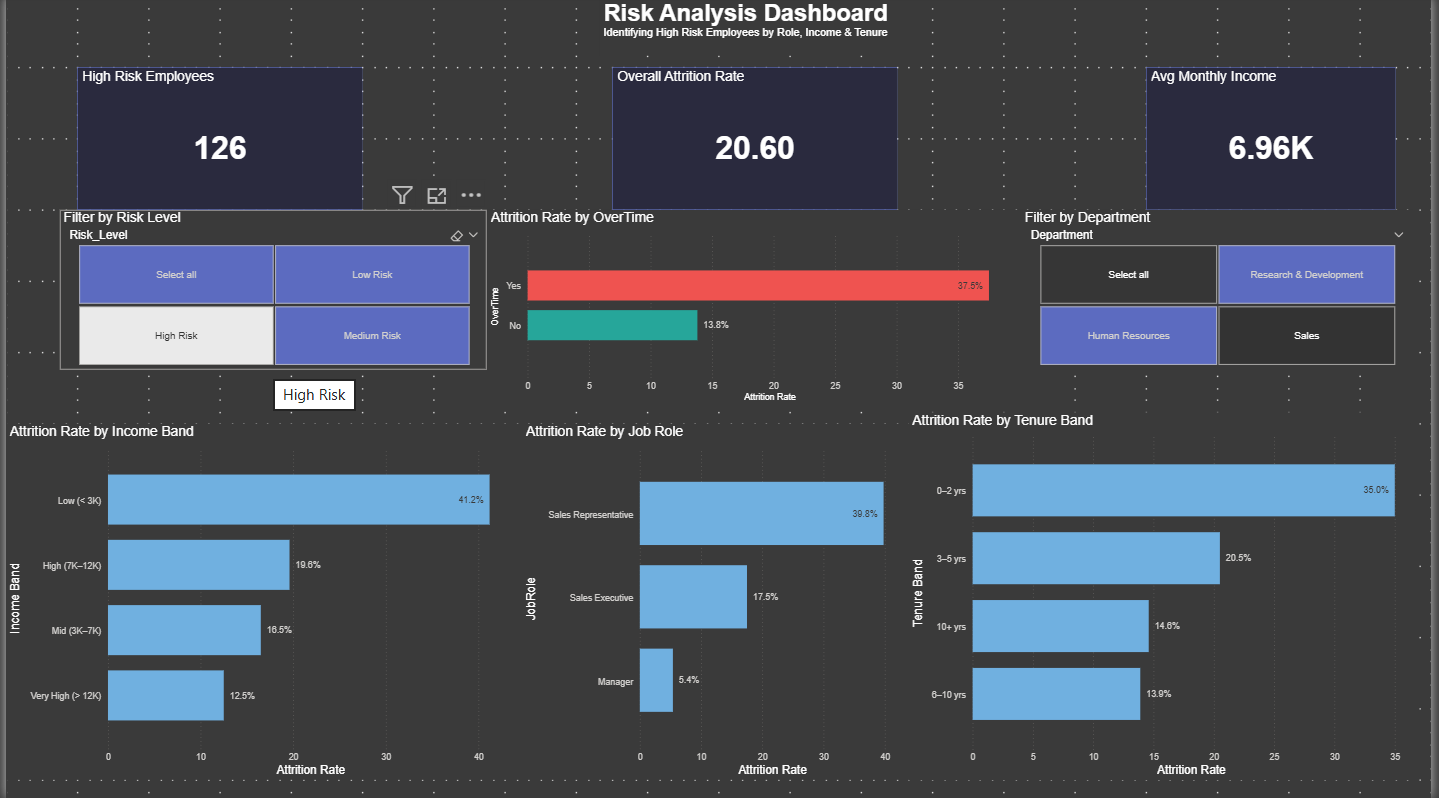

This screenshot's page, from the dashboard's own definition file:
{"tool":"powerbi","page":{"name":"Risk Analysis","canvas":[1920,1080],"ordinal":1},"visuals":[{"type":"textbox","box":[800,0,416,80],"z":0},{"type":"clusteredBarChart","title":"Attrition Rate by Job Role","fields":{"Category":["hr_for_powerbi.JobRole"],"Y":["hr_for_powerbi.Attrition Rate"]},"box":[696,576,528,480],"z":1000},{"type":"clusteredBarChart","fields":{"Category":["hr_for_powerbi.OverTime"],"Y":["hr_for_powerbi.Attrition Rate"]},"box":[648,288,720,264],"z":2000},{"type":"clusteredBarChart","fields":{"Category":["hr_for_powerbi.Income Band"],"Y":["hr_for_powerbi.Attrition Rate"]},"box":[0,576,696,480],"z":3000},{"type":"clusteredBarChart","fields":{"Category":["hr_for_powerbi.Tenure Band"],"Y":["hr_for_powerbi.Attrition Rate"]},"box":[1216,560,688,496],"z":4000},{"type":"slicer","title":"Filter by Risk Level","fields":{"Values":["hr_for_powerbi.Risk_Level"]},"box":[72,288,576,216],"z":5000},{"type":"card","title":"Overall Attrition Rate","fields":{"Values":["hr_for_powerbi.Attrition Rate"]},"box":[816,96,384,192],"z":6000},{"type":"card","title":"High Risk Employees","fields":{"Values":["hr_for_powerbi.High Risk Count"]},"box":[96,96,384,192],"z":7000},{"type":"card","title":"Avg Monthly Income","fields":{"Values":["hr_for_powerbi.Avg Monthly Income"]},"box":[1536,96,336,192],"z":8000},{"type":"slicer","title":"Filter by Department","fields":{"Values":["hr_for_powerbi.Department"]},"box":[1368,288,528,216],"z":9000}]}

Visuals, with their boxes in screenshot pixels (x1, y1, x2, y2), scaled from the page's 1920x1080 canvas onto the 1439x798 screenshot:
textbox: left=600, top=0, right=911, bottom=59
"Attrition Rate by Job Role" clusteredBarChart: left=522, top=426, right=917, bottom=780
clusteredBarChart - hr_for_powerbi.OverTime x hr_for_powerbi.Attrition Rate: left=486, top=213, right=1025, bottom=408
clusteredBarChart - hr_for_powerbi.Income Band x hr_for_powerbi.Attrition Rate: left=0, top=426, right=522, bottom=780
clusteredBarChart - hr_for_powerbi.Tenure Band x hr_for_powerbi.Attrition Rate: left=911, top=414, right=1427, bottom=780
"Filter by Risk Level" slicer: left=54, top=213, right=486, bottom=372
"Overall Attrition Rate" card: left=612, top=71, right=899, bottom=213
"High Risk Employees" card: left=72, top=71, right=360, bottom=213
"Avg Monthly Income" card: left=1151, top=71, right=1403, bottom=213
"Filter by Department" slicer: left=1025, top=213, right=1421, bottom=372
